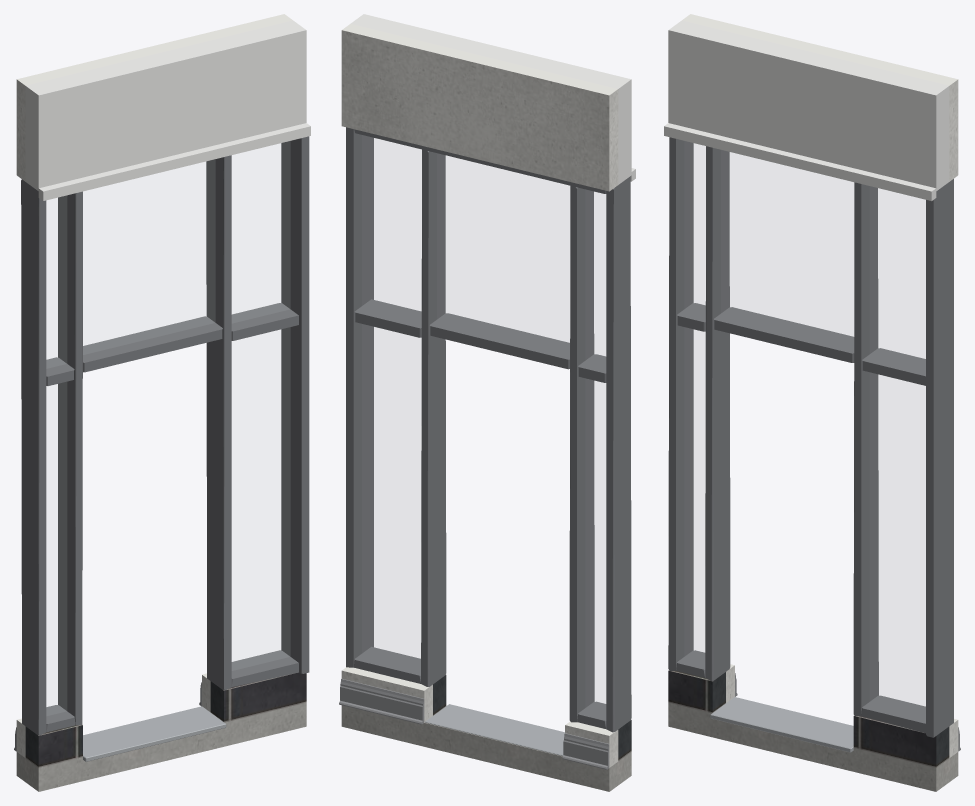
Rendered from s_door1_l.glb.
The picture shows the model from 3 angles, left to right: view 1: azimuth 30°, elevation 25°; view 2: azimuth 150°, elevation 25°; view 3: azimuth 330°, elevation 25°; orthographic projection.
Parts seen in each view (by area): view 1: s_door1_l_mull, s_door1_l_glass, s_door1_l_panel_w, s_door1_l_concrete, s_door1_l_block_d, s_door1_l_plaster, s_door1_l_steel; view 2: s_door1_l_mull, s_door1_l_glass, s_door1_l_plaster, s_door1_l_concrete, s_door1_l_panel_w, molduras, s_door1_l_steel, s_door1_l_block_d; view 3: s_door1_l_mull, s_door1_l_glass, s_door1_l_panel_w, s_door1_l_concrete, s_door1_l_block_d, s_door1_l_plaster, s_door1_l_steel.
Boxes of the visible parts, x1,y1,x2,y2 form: s_door1_l_mull: (21, 136, 309, 735); s_door1_l_glass: (47, 142, 289, 715); s_door1_l_panel_w: (25, 20, 310, 200); s_door1_l_concrete: (16, 702, 306, 791); s_door1_l_block_d: (25, 672, 306, 767); s_door1_l_plaster: (16, 14, 292, 757); s_door1_l_steel: (83, 706, 226, 761); s_door1_l_mull: (346, 127, 631, 732); s_door1_l_glass: (362, 135, 605, 712); s_door1_l_plaster: (341, 23, 618, 767); s_door1_l_concrete: (341, 705, 631, 791); s_door1_l_panel_w: (351, 14, 635, 184); molduras: (339, 678, 609, 769); s_door1_l_steel: (425, 704, 564, 756); s_door1_l_block_d: (433, 674, 631, 760); s_door1_l_mull: (668, 137, 953, 737); s_door1_l_glass: (685, 142, 925, 714); s_door1_l_panel_w: (664, 20, 949, 200); s_door1_l_concrete: (668, 702, 958, 791); s_door1_l_block_d: (668, 670, 949, 767); s_door1_l_plaster: (682, 14, 958, 757); s_door1_l_steel: (710, 697, 853, 752).
Bounding box in the file's own units: 1.75 × 4.35 × 0.33.
Materials: 8 (3 with a texture image).
